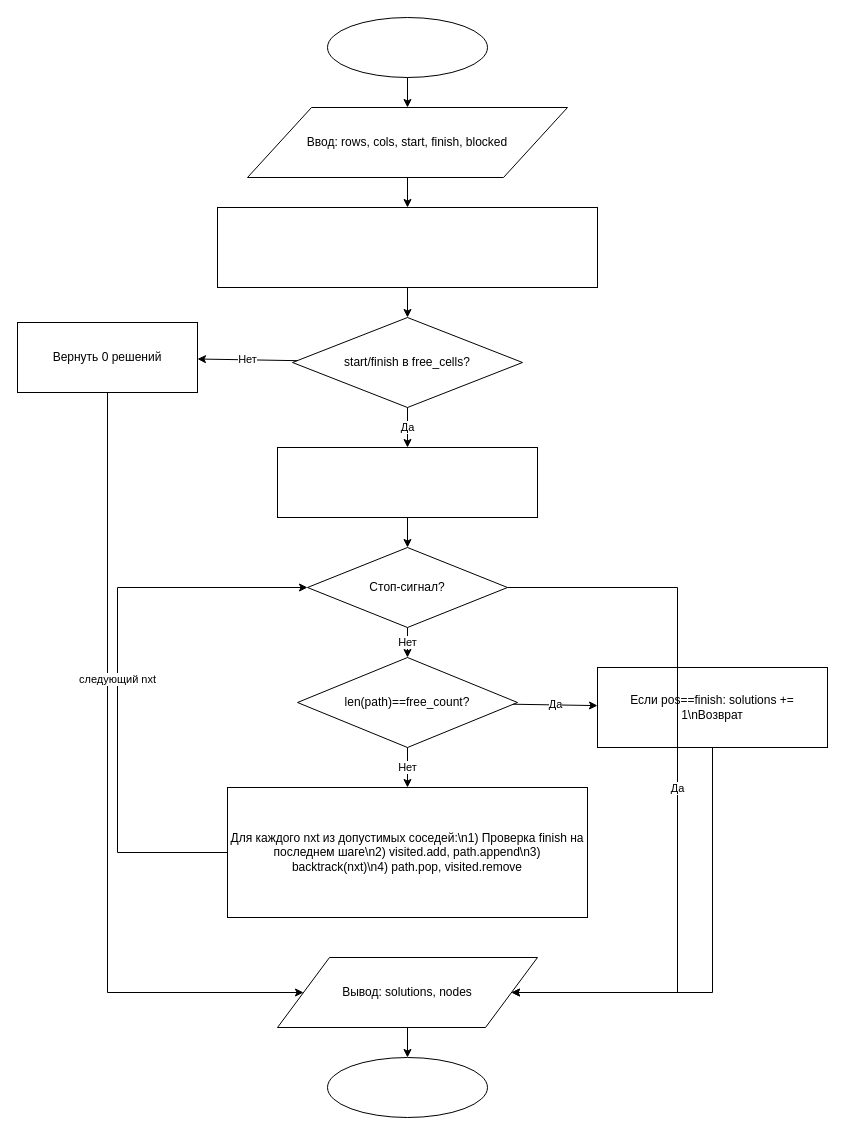
Image size: 845x1135. Some labels were removed from this diagram. Here are the shapes that lost their labels. From the top down, the centre of each, then its label:
At (x=407, y=47): "Начало".
At (x=407, y=247): "Инициализация: free_cells, visited={start}, path=[start], solutions=0, nodes=0".
At (x=407, y=482): "Вызов backtrack(start)".
At (x=407, y=1087): "Конец".
